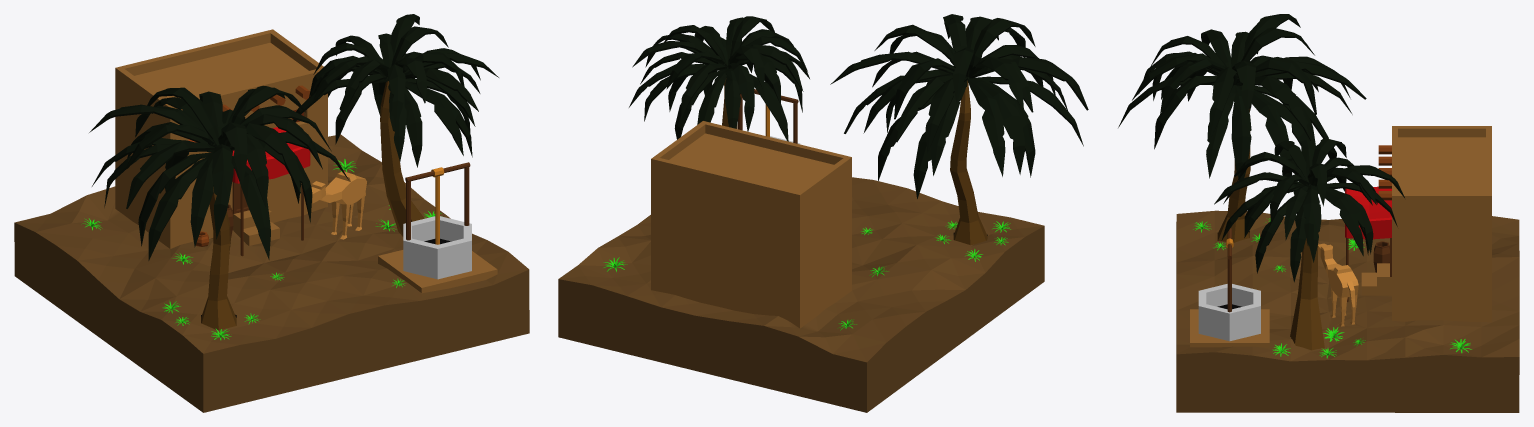
The model's file is Desert.fbx.
The picture shows the model from 3 angles, left to right: view 1: azimuth 30°, elevation 25°; view 2: azimuth 150°, elevation 25°; view 3: azimuth 270°, elevation 25°; orthographic projection. The views are drawn at different scales.
Visible parts, largest first — view 1: Desert=base=, Tree00, Building, Tree01, Well, Camel, Tent, Stair; view 2: Desert=base=, Building, Tree00, Tree01, Well; view 3: Desert=base=, Building, Tree00, Tree01, Well, Camel, Tent, Stair, Deco, Pots.
Boxes of the visible parts, <box> form: Desert=base=: <box>14,134,529,412</box>; Tree00: <box>89,85,348,330</box>; Building: <box>115,29,327,248</box>; Tree01: <box>293,14,498,237</box>; Well: <box>378,162,497,293</box>; Camel: <box>311,171,366,239</box>; Tent: <box>232,127,310,256</box>; Stair: <box>232,210,279,245</box>; Desert=base=: <box>558,177,1044,412</box>; Building: <box>651,121,851,328</box>; Tree00: <box>830,14,1088,245</box>; Tree01: <box>629,16,809,141</box>; Well: <box>738,89,800,144</box>; Desert=base=: <box>1176,210,1519,412</box>; Building: <box>1392,126,1491,322</box>; Tree00: <box>1118,14,1366,242</box>; Tree01: <box>1214,138,1404,350</box>; Well: <box>1190,228,1269,347</box>; Camel: <box>1318,243,1358,326</box>; Tent: <box>1345,186,1391,301</box>; Stair: <box>1361,263,1391,295</box>; Deco: <box>1378,145,1391,200</box>; Pots: <box>1373,241,1389,272</box>.
Size of the model in its own units: 128 by 81.39 by 117.
